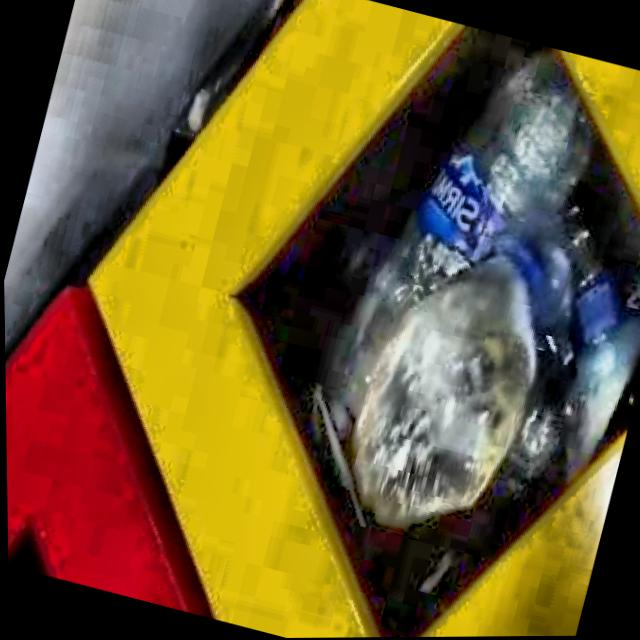plastic: (332, 53, 640, 528)
